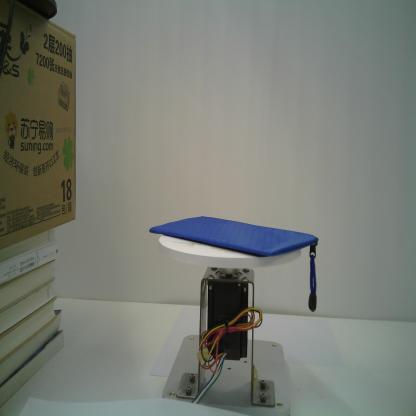Stationery: (147, 214, 319, 315)
